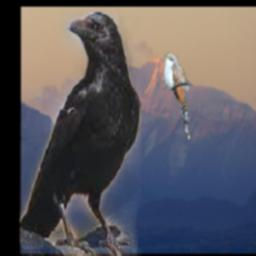Crow: (19, 13, 140, 256)
Cuckoo: (164, 52, 189, 139)
